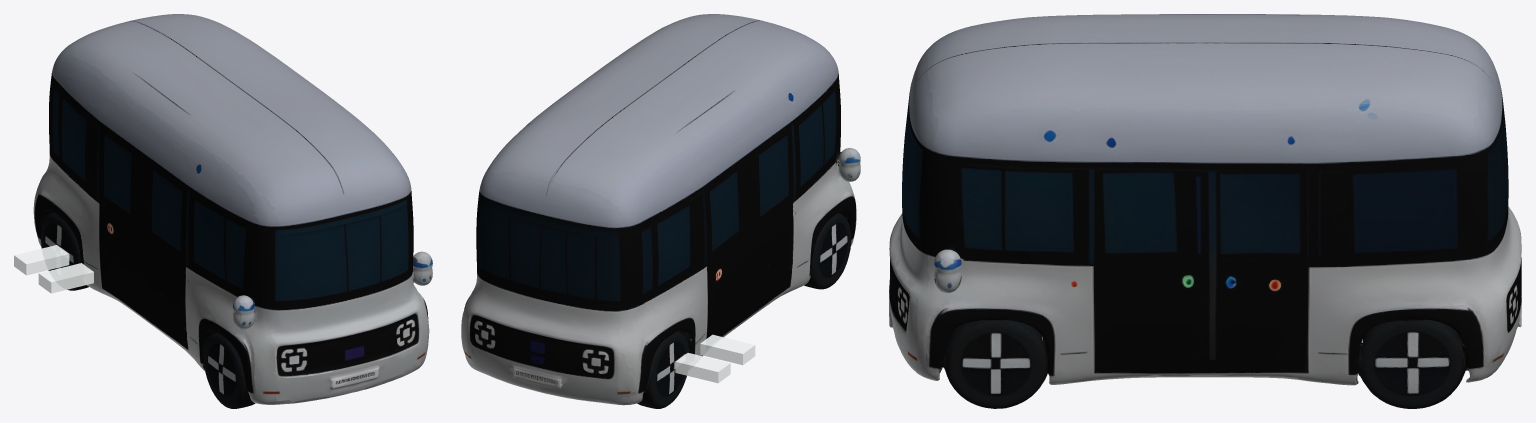
File: roii_reconfig.glb
3 renders of one model, left to right at view 1: azimuth 30°, elevation 25°; view 2: azimuth 150°, elevation 25°; view 3: azimuth 270°, elevation 25°, orthographic. The views are drawn at different scales.
Parts seen in each view (by area): view 1: textured_meshobj, object 6, object 7; view 2: textured_meshobj, object 7, object 6; view 3: textured_meshobj.
Boxes of the visible parts, box(x1,y1,x2,y2) form: textured_meshobj: box(33, 14, 432, 408); object 6: box(38, 263, 93, 293); object 7: box(14, 245, 69, 275); textured_meshobj: box(461, 14, 860, 408); object 7: box(675, 353, 730, 383); object 6: box(700, 334, 755, 364); textured_meshobj: box(889, 14, 1521, 408).
Size of the model in its own units: 22.12 by 21.74 by 40.
82 materials, 1 textured.
